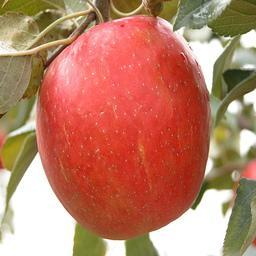apple: (37, 17, 211, 236)
